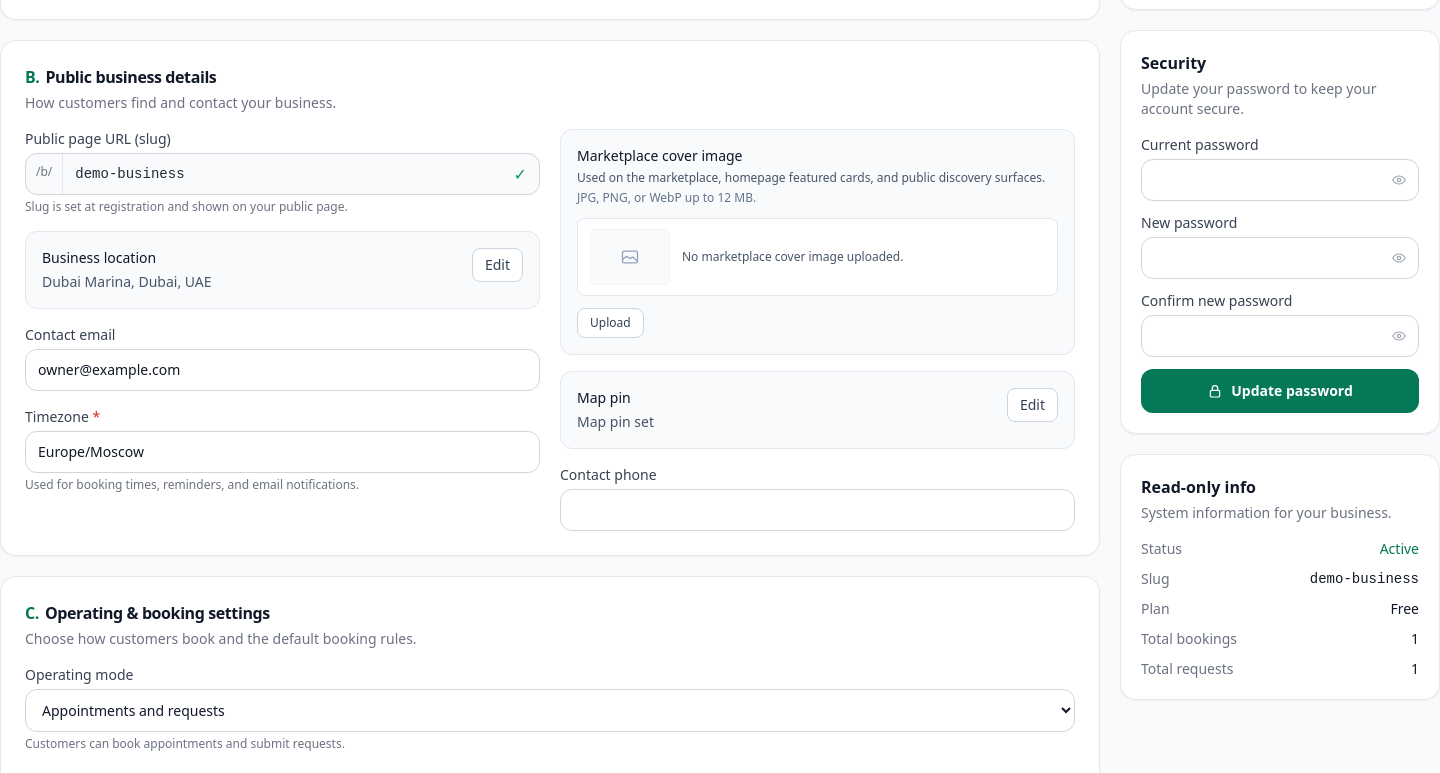
Test case: admin business map pin settings › shows validation error for invalid latitude
(page scrolled)
Click the button with test id "admin-business-map-pin-edit" at (1032, 405), box [1007, 388, 1058, 422]
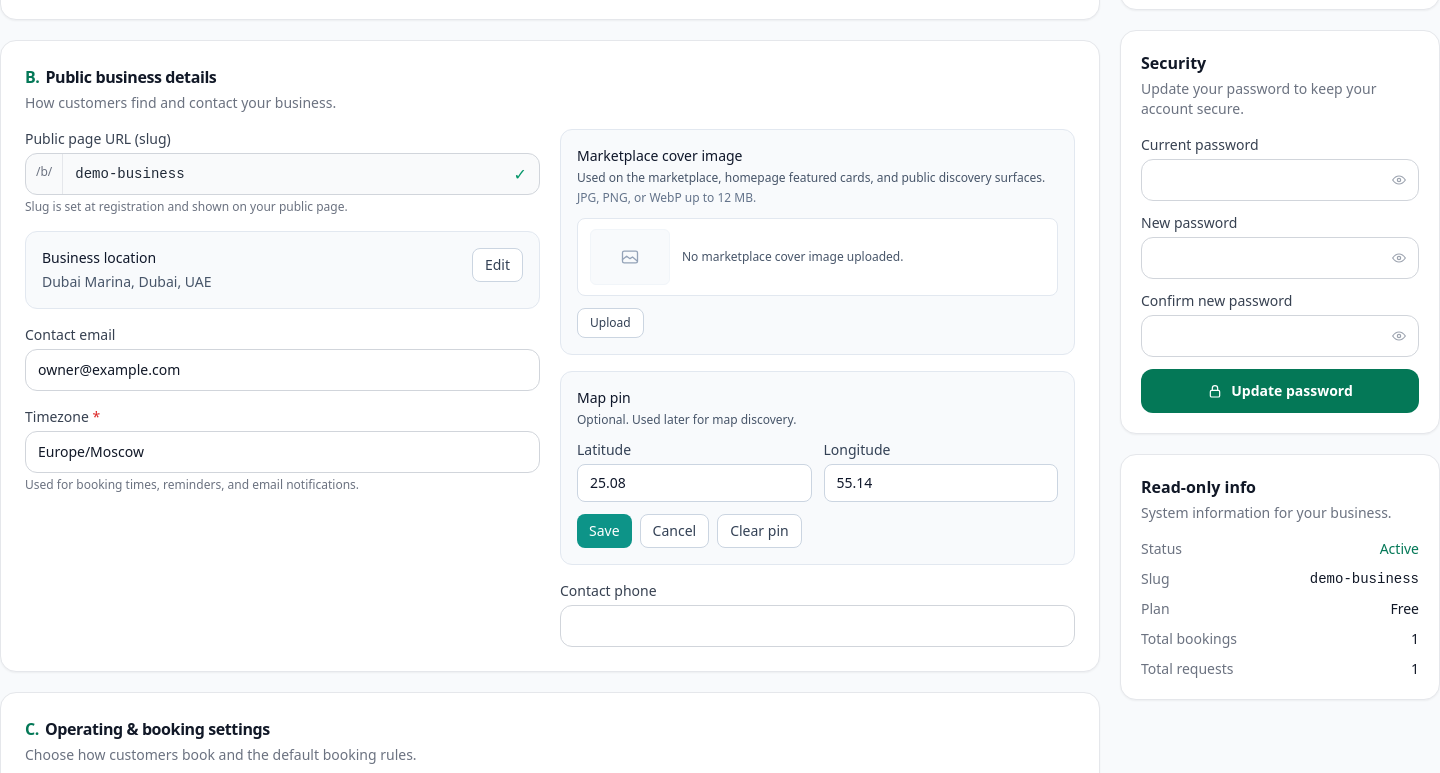
Replace the text in the field labelled "Latitude" with "999" at (694, 483), box [577, 464, 812, 502]
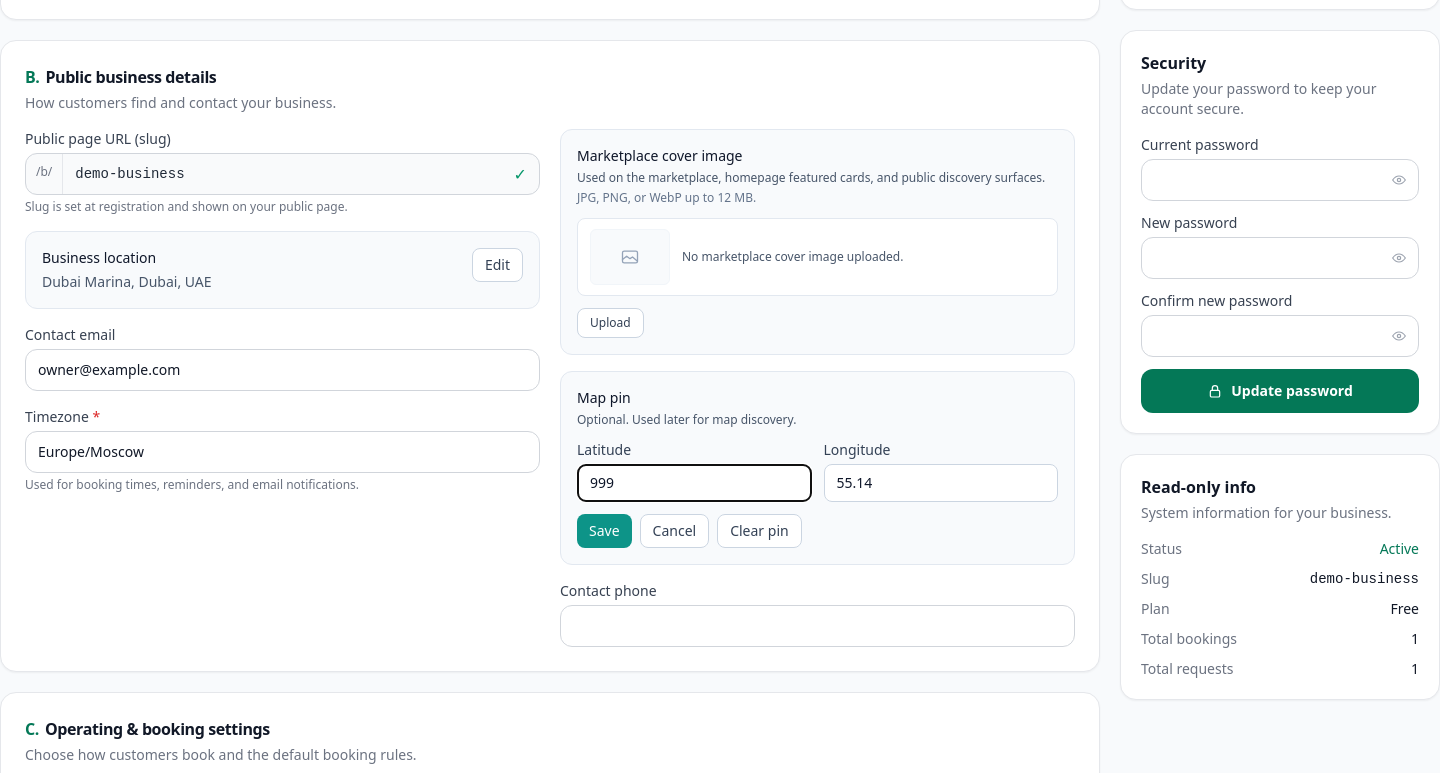
Click the button with test id "admin-business-map-pin-save" at (604, 531), box [577, 514, 632, 548]
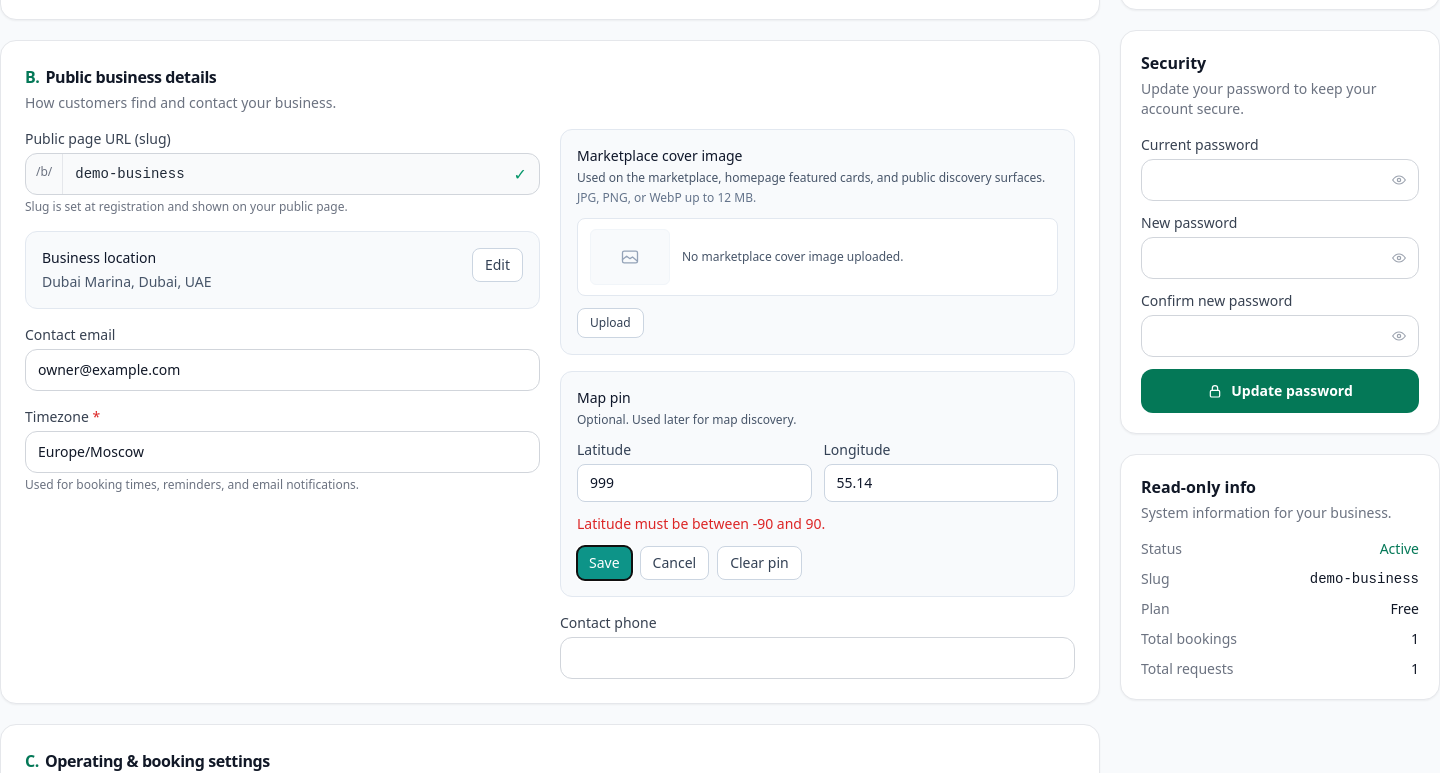
Check: the text "Latitude must be between -90 and 90." is shown, box [577, 514, 825, 533]
